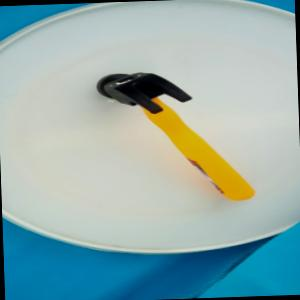martelo: (92, 66, 258, 208)
